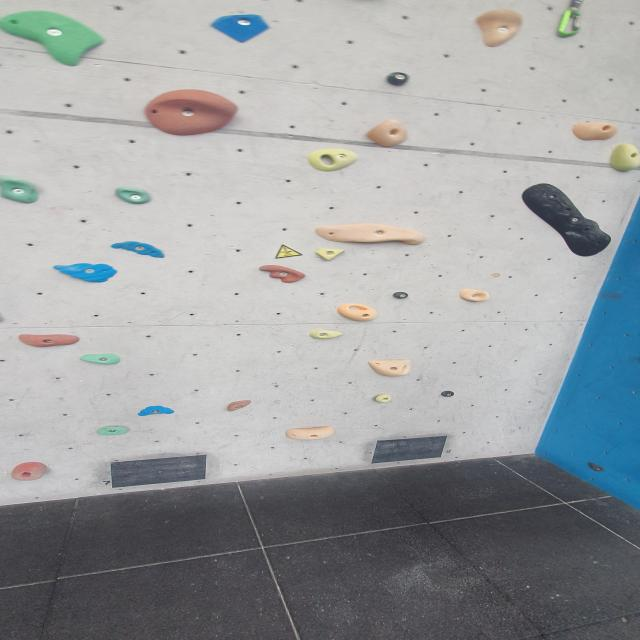Crimp: (0, 9, 110, 69), (49, 264, 120, 284), (255, 264, 307, 284), (17, 335, 83, 349), (110, 242, 167, 258), (285, 426, 337, 440), (77, 353, 128, 366), (308, 328, 345, 340), (138, 407, 178, 417), (99, 425, 138, 435), (373, 393, 393, 403)
Jug: (518, 183, 615, 258), (312, 224, 437, 246), (471, 10, 527, 50), (365, 120, 413, 149), (0, 177, 44, 205), (569, 119, 621, 142), (8, 461, 56, 483), (112, 187, 156, 203), (459, 287, 492, 305)
Pinch: (608, 144, 640, 174)
Pocket: (306, 146, 359, 173), (364, 358, 418, 376), (337, 304, 382, 323)
Sloper: (138, 89, 242, 138)
